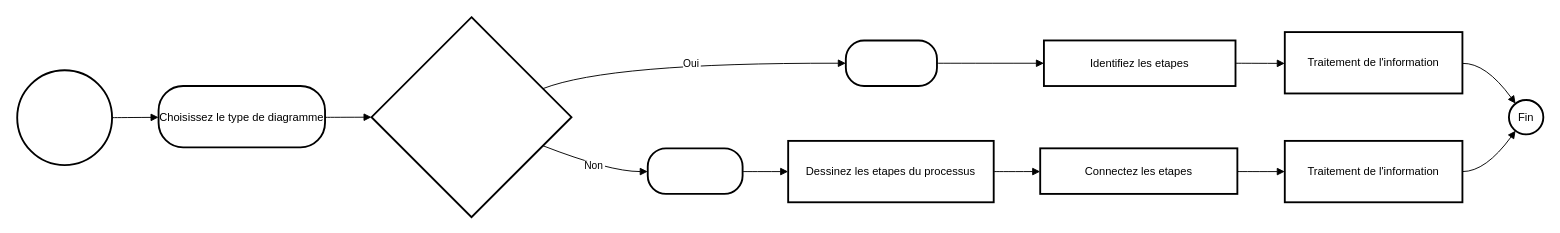
The diagram is 1560 pixels wide and 233 high, and some of its shapes have lost their labels. Each missing label, with the box of its shape:
Commencez: (16, 69, 113, 166)
Diagramme simplicite ?: (370, 16, 572, 218)
Flowchart: (646, 147, 743, 194)
Sequence: (844, 39, 937, 86)
